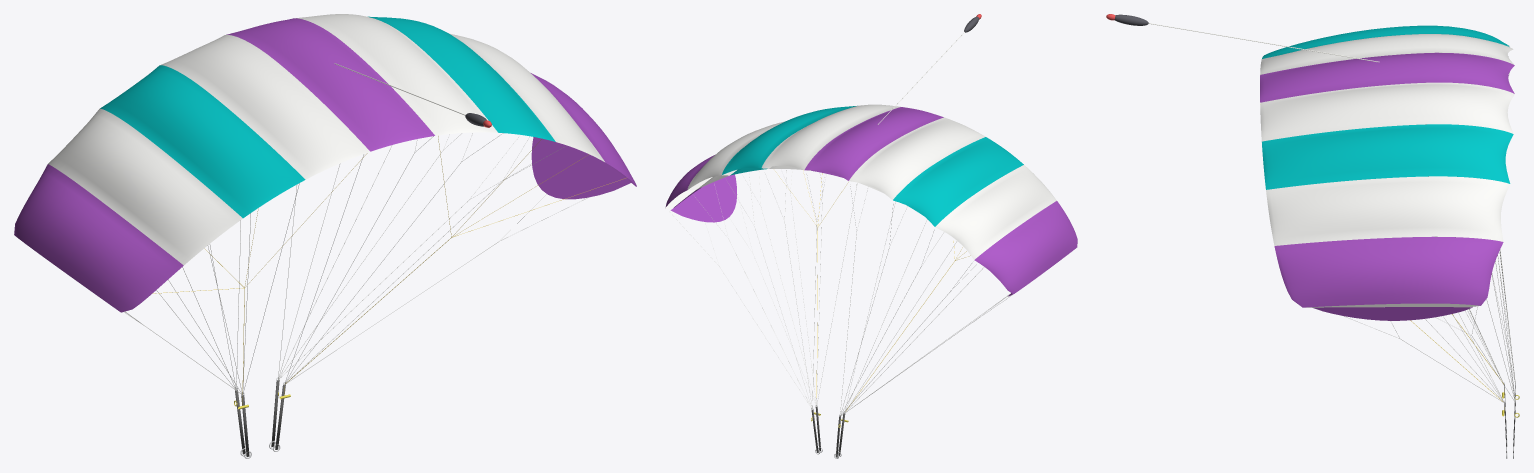
Rendered from PD_Stiletto_135.glb.
3 views of the same model, side by side, from view 1: azimuth 30°, elevation 25°; view 2: azimuth 150°, elevation 25°; view 3: azimuth 270°, elevation 25° (orthographic). The views are drawn at different scales.
Visible parts, largest first — view 1: TopSkin, Stabilizers, Lines, Risers, SteeringLines; view 2: TopSkin, Lines, Stabilizers, BottomSkin, Risers, SteeringLines; view 3: TopSkin, Lines, Stabilizers, PilotChute, Ribs.
Boxes of the visible parts, bbox=[...] form: TopSkin: bbox=[14, 14, 636, 312]; Stabilizers: bbox=[531, 137, 630, 199]; Lines: bbox=[124, 133, 587, 394]; Risers: bbox=[234, 377, 290, 458]; SteeringLines: bbox=[152, 136, 625, 405]; TopSkin: bbox=[665, 104, 1077, 294]; Lines: bbox=[669, 170, 1011, 416]; Stabilizers: bbox=[670, 174, 1012, 296]; BottomSkin: bbox=[674, 165, 998, 279]; Risers: bbox=[811, 405, 848, 458]; SteeringLines: bbox=[775, 170, 970, 410]; TopSkin: bbox=[1260, 25, 1514, 307]; Lines: bbox=[1343, 56, 1515, 402]; Stabilizers: bbox=[1312, 307, 1472, 320]; PilotChute: bbox=[1106, 14, 1379, 62]; Ribs: bbox=[1306, 45, 1509, 307].
Bounding box in the file's own units: 4.92 × 4.35 × 3.72.
